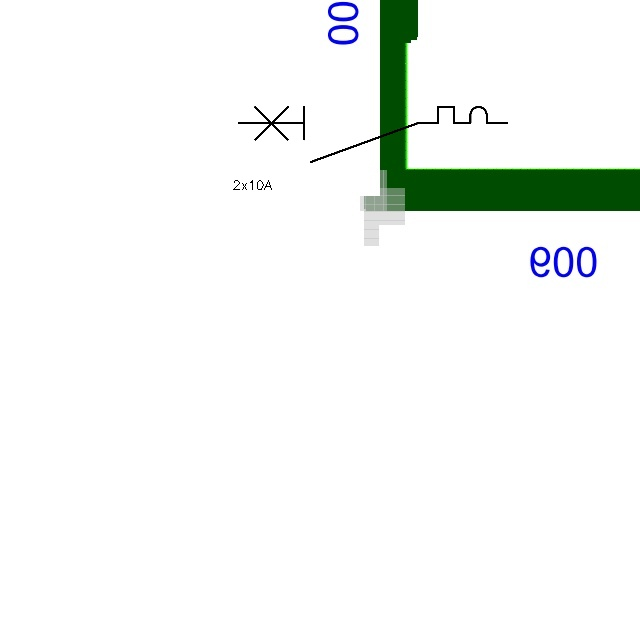interruptor_termomagnetico: (232, 100, 514, 169)
